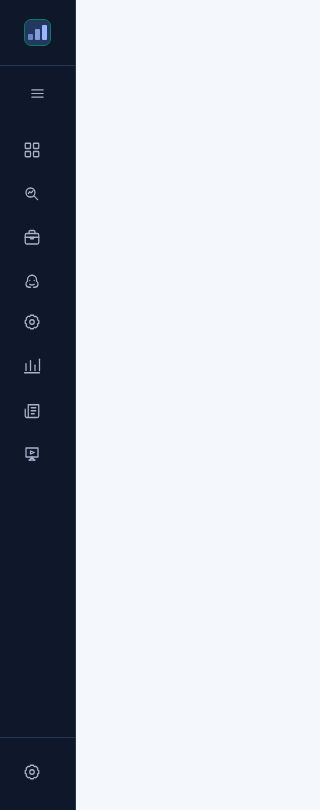
it: Sidebar pinning › keeps a narrow viewport as an overlay rail while preserving the pinned preference
Focus the button named "Open workspace": (38, 93) [22,78,52,108]
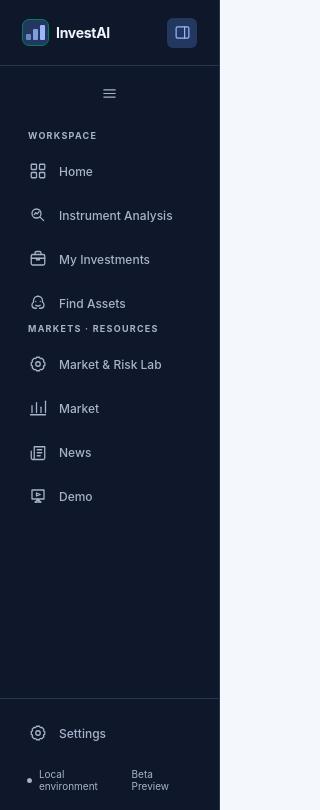
Expected: the button named "Close workspace" is shown, [94,78,124,108]
Expected: the button named "Unpin sidebar" is shown, [167,18,197,48]
